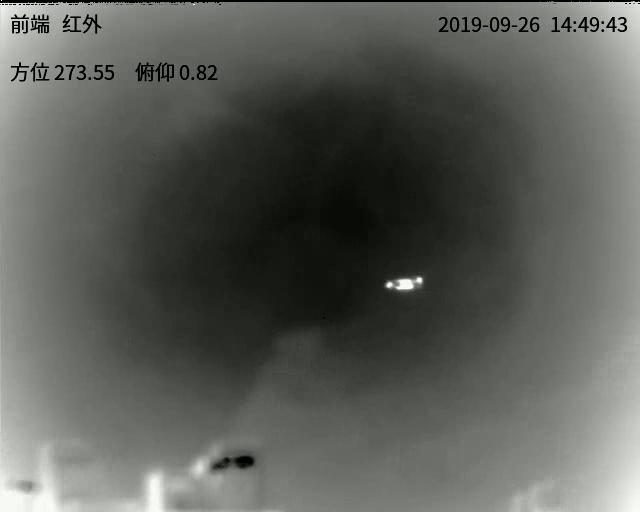DRONE: (384, 276, 424, 292)
